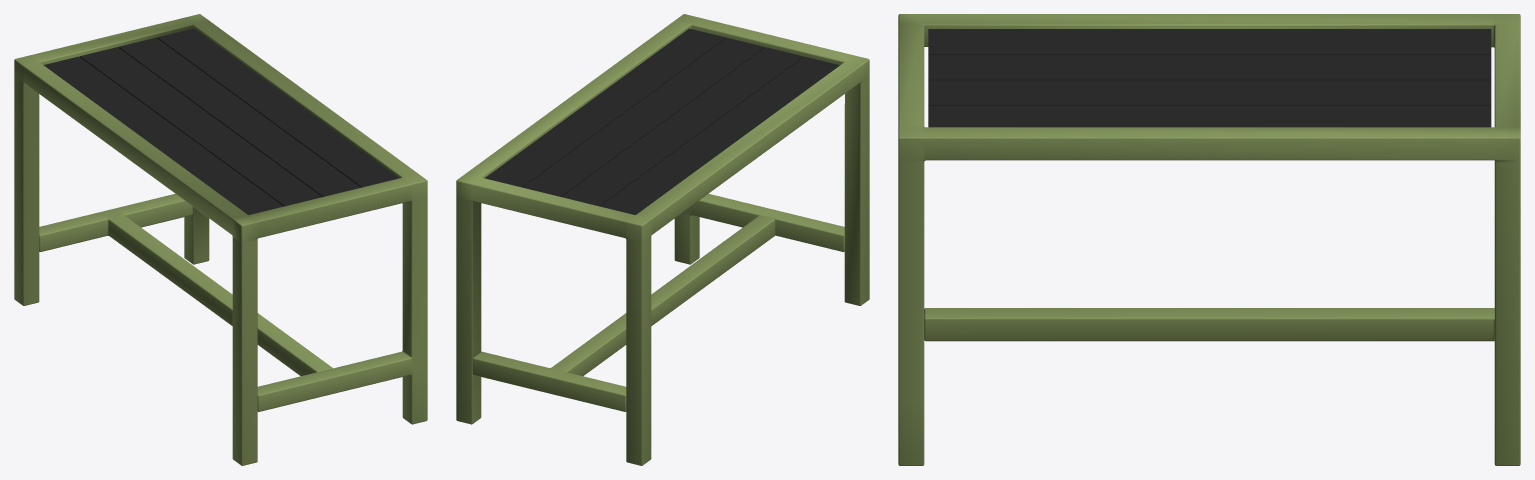
File: tafel 2.glb
3 views of the same model, side by side, from view 1: azimuth 30°, elevation 25°; view 2: azimuth 150°, elevation 25°; view 3: azimuth 270°, elevation 25° (orthographic). The views are drawn at different scales.
Parts seen in each view (by area): view 1: Frame, plank.001; view 2: Frame, plank.001; view 3: Frame, plank.001.
Boxes of the visible parts, x1,y1,x2,y2 form: Frame: [14, 14, 427, 465]; plank.001: [43, 28, 398, 214]; Frame: [456, 14, 869, 465]; plank.001: [485, 28, 839, 214]; Frame: [898, 14, 1520, 465]; plank.001: [928, 29, 1491, 127].
Size of the model in its own units: 0.85 by 1.05 by 1.8.
